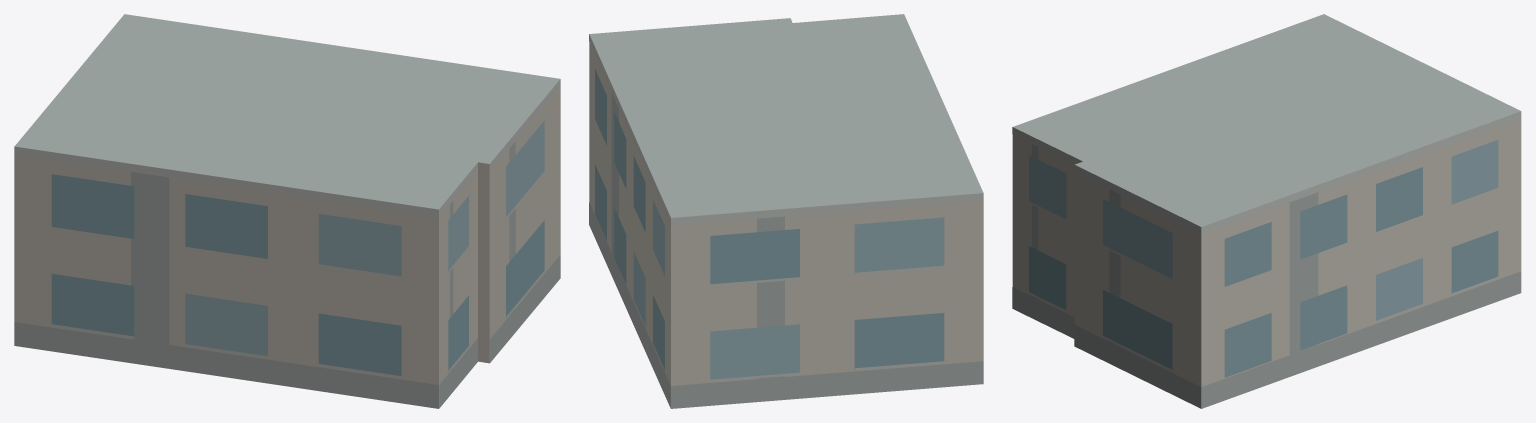
File: residential-59f4ef3b-3f07-4629-8793-74c15750e3f2.glb
3 views of the same model, side by side, from view 1: azimuth 30°, elevation 25°; view 2: azimuth 150°, elevation 25°; view 3: azimuth 270°, elevation 25° (orthographic). The views are drawn at different scales.
Parts seen in each view (by area): view 1: residential-59f4ef3b-3f07-4629-8793-74c15750e3f2.tmp; view 2: residential-59f4ef3b-3f07-4629-8793-74c15750e3f2.tmp; view 3: residential-59f4ef3b-3f07-4629-8793-74c15750e3f2.tmp.
Part boxes in pixels (x1=…): residential-59f4ef3b-3f07-4629-8793-74c15750e3f2.tmp: x1=14, y1=14, x2=560, y2=408; residential-59f4ef3b-3f07-4629-8793-74c15750e3f2.tmp: x1=589, y1=14, x2=983, y2=408; residential-59f4ef3b-3f07-4629-8793-74c15750e3f2.tmp: x1=1012, y1=14, x2=1521, y2=408.
Size of the model in its own units: 15.35 by 6.1 by 15.48.
